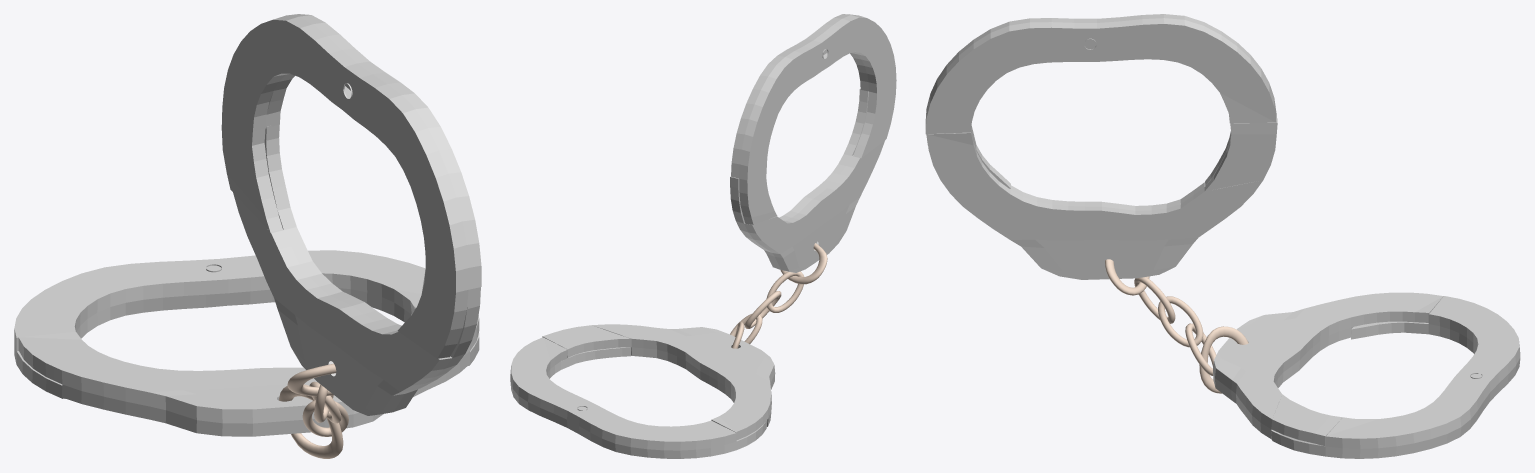
Rendered from uploads_files_834445_handcuffs.fbx.
The picture shows the model from 3 angles, left to right: view 1: azimuth 30°, elevation 25°; view 2: azimuth 150°, elevation 25°; view 3: azimuth 270°, elevation 25°; orthographic projection. The views are drawn at different scales.
Visible parts, largest first — view 1: Torus.001, Torus, Torus.002, Torus.003, Circle046.001, Circle046, Circle041; view 2: Torus.001, Torus.002, Torus.003, Torus, Circle043, Circle046, Circle044; view 3: Torus, Torus.001, Torus.002, Torus.003, Circle044, Circle046.001, Circle043.
Boxes of the visible parts, x1,y1,x2,y2 form: Torus.001: (221, 14, 481, 358); Torus: (233, 124, 480, 415); Torus.002: (14, 250, 479, 398); Torus.003: (18, 306, 479, 436); Circle046.001: (279, 384, 343, 458); Circle046: (287, 363, 336, 396); Circle041: (302, 400, 348, 436); Torus.001: (731, 14, 896, 224); Torus.002: (510, 337, 767, 458); Torus.003: (542, 324, 775, 439); Torus: (730, 89, 885, 272); Circle043: (766, 271, 804, 312); Circle046: (780, 243, 827, 284); Circle044: (745, 291, 781, 328); Torus: (927, 118, 1277, 279); Torus.001: (925, 14, 1276, 188); Torus.002: (1271, 296, 1520, 458); Torus.003: (1213, 292, 1443, 445); Circle044: (1158, 296, 1203, 347); Circle046.001: (1199, 326, 1248, 393); Circle043: (1134, 277, 1175, 323).
Bounding box in the file's own units: 383 × 442 × 666.
